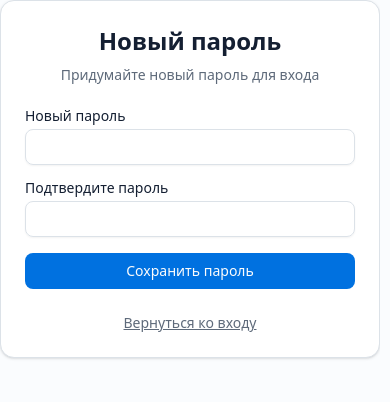
Test case: ResetPasswordCard › показывает ошибку при несовпадении паролей
Type "newpass1" into the password field labelled "Новый пароль".
click(190, 147); type("newpass1")  # box [25,129,355,165]
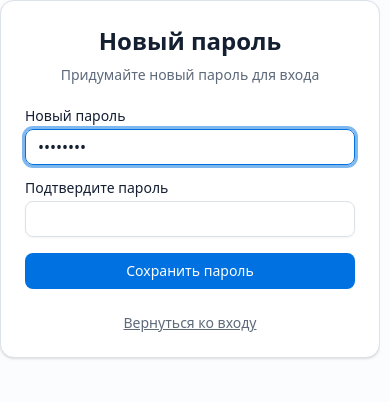
Type "other" into the password field labelled "Подтвердите пароль".
click(190, 219); type("other")  # box [25,201,355,237]
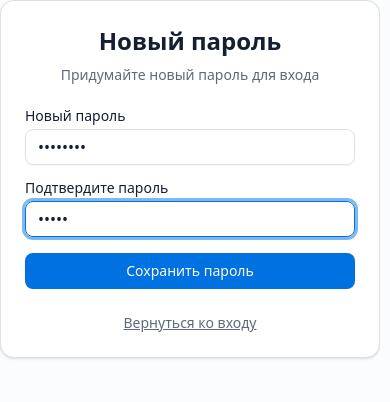
Click the button "Сохранить пароль".
click(190, 271)  # box [25,253,355,289]
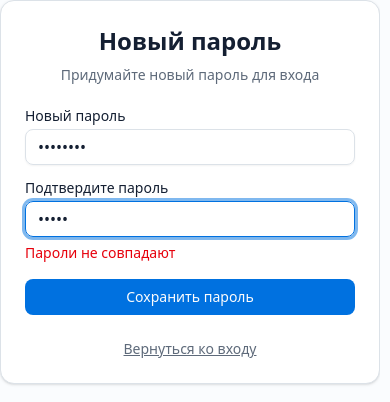
Check: the text "Пароли не совпадают" is shown, box [25,243,175,262]
